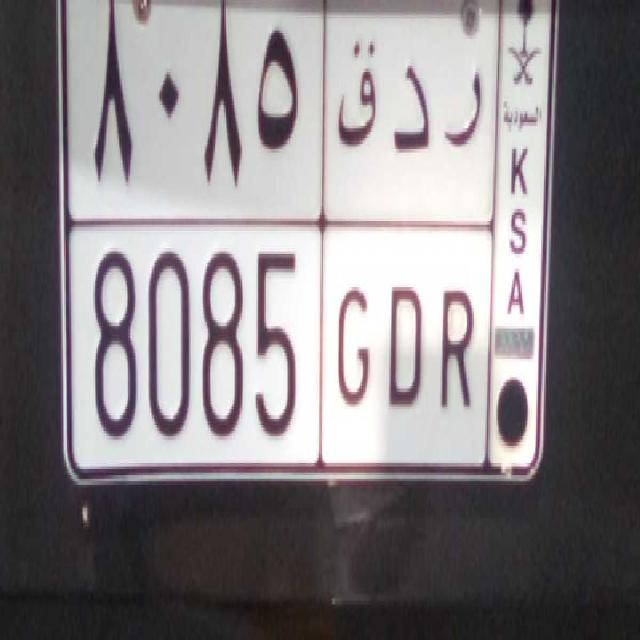license_plate: (69, 224, 489, 470)
